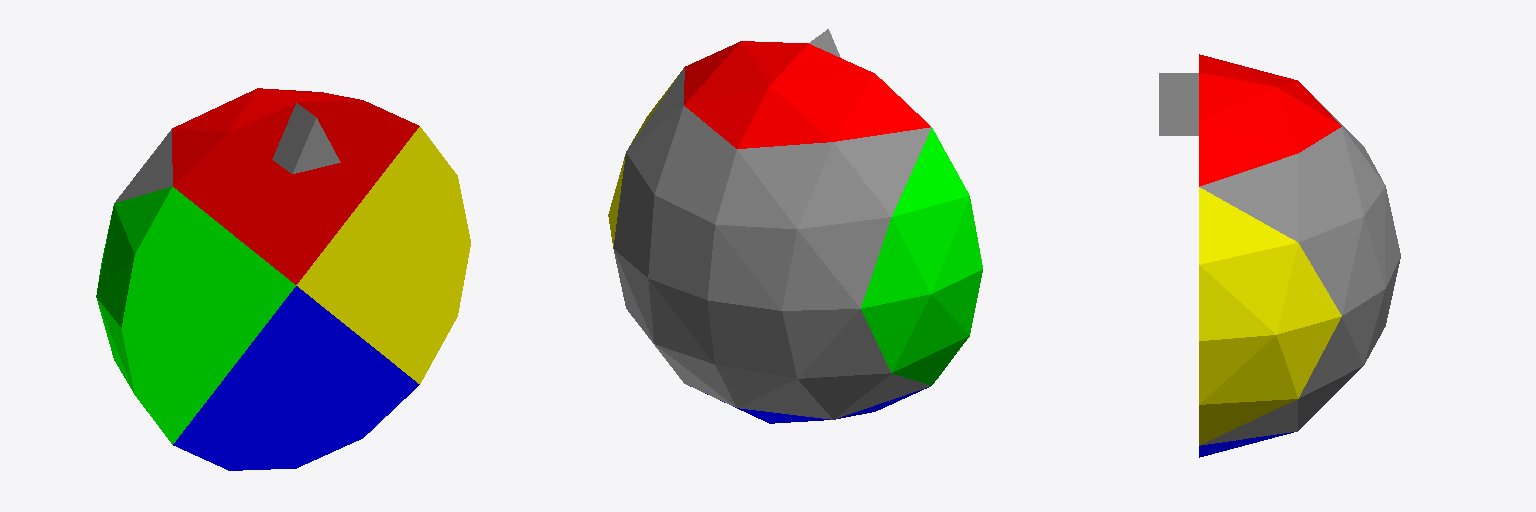
File: nodes2D_picking.obj
3 renders of one model, left to right at view 1: azimuth 30°, elevation 25°; view 2: azimuth 150°, elevation 25°; view 3: azimuth 270°, elevation 25°, orthographic.
Visible parts, largest first — view 1: nodes2D_picking; view 2: nodes2D_picking; view 3: nodes2D_picking.
Part boxes in pixels (x1,y1,x2,y2): nodes2D_picking: (96,88,470,470); nodes2D_picking: (608,29,982,423); nodes2D_picking: (1159,54,1400,457).
Bounding box in the file's own units: 25 × 25 × 15.